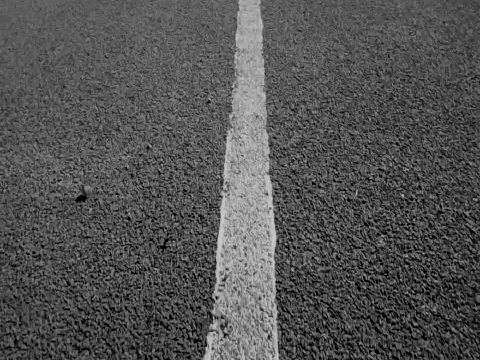Lines: (202, 0, 281, 360)
